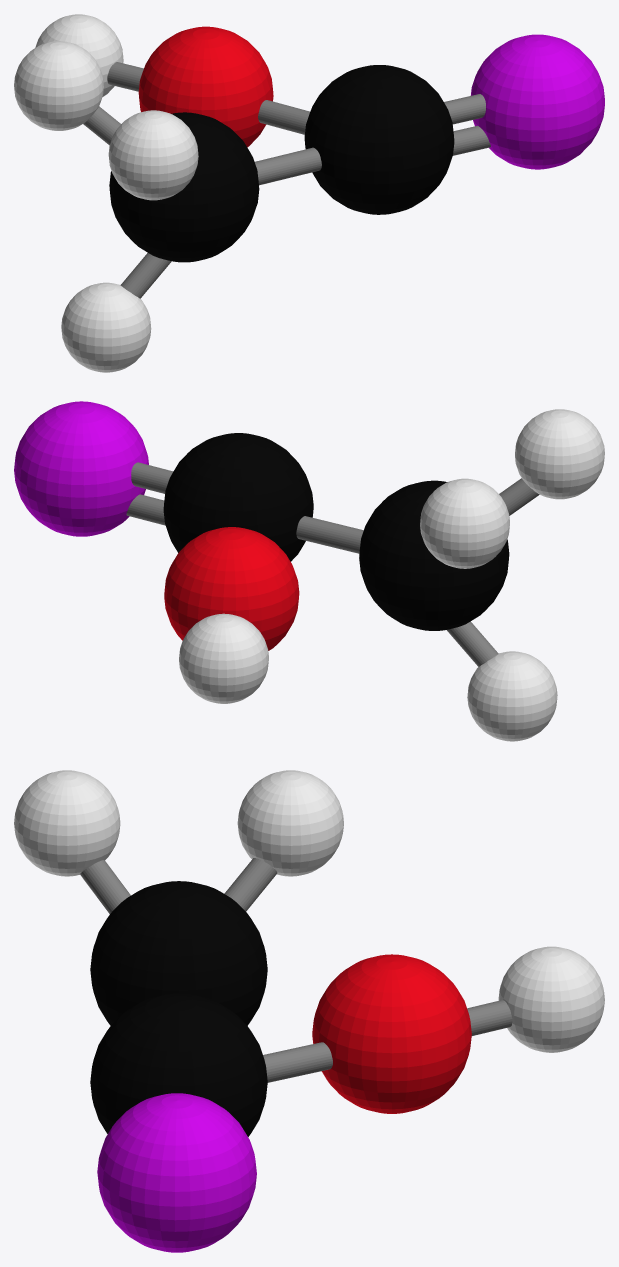
The model's file is CH3COONa.glb.
The picture shows the model from 3 angles, top to bottom: view 1: azimuth 30°, elevation 25°; view 2: azimuth 150°, elevation 25°; view 3: azimuth 270°, elevation 25°; orthographic projection. The views are drawn at different scales.
Parts seen in each view (by area): view 1: углерод 1, кислород двойной, Sphere, кислород двойной.001, Sphere.002, Sphere.001, Sphere.003, водорд 4, Cylinder.002, Cylinder.006, Cylinder.005, Cylinder (+3 smaller); view 2: кислород двойной, углерод 1, Sphere, кислород двойной.001, Sphere.002, Sphere.001, водорд 4, Sphere.003, Cylinder.002, Cylinder.005, Cylinder, Cylinder.001 (+1 smaller); view 3: кислород двойной, кислород двойной.001, Sphere, углерод 1, Sphere.002, Sphere.001, водорд 4, Cylinder.006, Cylinder.003, Cylinder.004, Cylinder.007.
Part boxes in pixels (bbox=[...]): углерод 1: bbox=[304, 65, 454, 214]; кислород двойной: bbox=[470, 34, 604, 169]; Sphere: bbox=[109, 112, 259, 262]; кислород двойной.001: bbox=[138, 26, 273, 147]; Sphere.002: bbox=[108, 110, 198, 200]; Sphere.001: bbox=[14, 41, 103, 130]; Sphere.003: bbox=[61, 282, 151, 372]; водорд 4: bbox=[35, 14, 123, 96]; Cylinder.002: bbox=[254, 147, 321, 185]; Cylinder.006: bbox=[258, 100, 309, 134]; Cylinder.005: bbox=[120, 253, 171, 298]; Cylinder: bbox=[444, 94, 485, 124]; кислород двойной: bbox=[14, 401, 148, 536]; углерод 1: bbox=[163, 433, 313, 561]; Sphere: bbox=[359, 480, 509, 630]; кислород двойной.001: bbox=[164, 527, 299, 650]; Sphere.002: bbox=[515, 409, 604, 499]; Sphere.001: bbox=[420, 478, 509, 568]; водорд 4: bbox=[179, 613, 268, 703]; Sphere.003: bbox=[467, 651, 557, 741]; Cylinder.002: bbox=[296, 516, 363, 553]; Cylinder.005: bbox=[447, 621, 498, 666]; Cylinder: bbox=[131, 462, 173, 493]; Cylinder.001: bbox=[126, 494, 165, 525]; кислород двойной: bbox=[97, 1093, 256, 1252]; кислород двойной.001: bbox=[312, 954, 471, 1113]; Sphere: bbox=[90, 881, 267, 1025]; углерод 1: bbox=[90, 993, 267, 1136]; Sphere.002: bbox=[14, 770, 120, 876]; Sphere.001: bbox=[237, 770, 343, 876]; водорд 4: bbox=[498, 946, 604, 1052]; Cylinder.006: bbox=[263, 1042, 332, 1082]; Cylinder.003: bbox=[224, 858, 277, 911]; Cylinder.004: bbox=[80, 860, 130, 914]; Cylinder.007: bbox=[467, 1000, 512, 1035].
Size of the model in its own units: 4.06 by 2.12 by 3.33.
